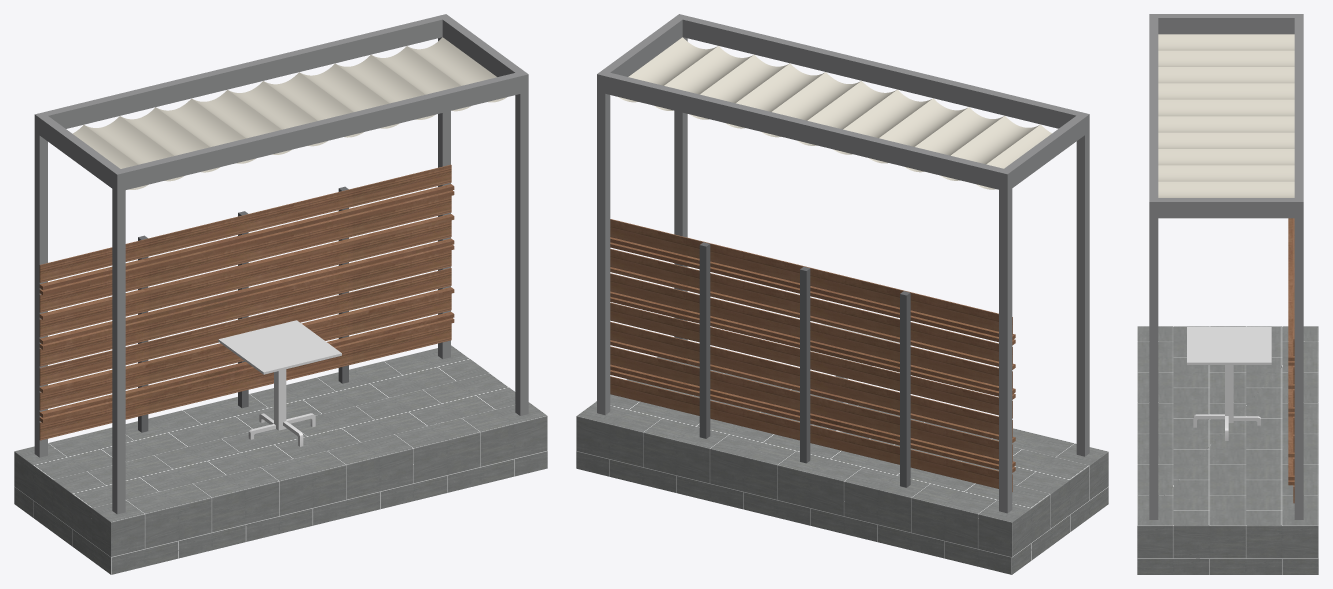
The model's file is fp25-g_w39-d15_matlightgrey.fbx.
The picture shows the model from 3 angles, left to right: view 1: azimuth 30°, elevation 25°; view 2: azimuth 150°, elevation 25°; view 3: azimuth 270°, elevation 25°; orthographic projection. The views are drawn at different scales.
Parts seen in each view (by area): view 1: fp25-g_w39-d15_mat-l-gray_ファニチャーなし.001; view 2: fp25-g_w39-d15_mat-l-gray_ファニチャーなし.001; view 3: fp25-g_w39-d15_mat-l-gray_ファニチャーなし.001.
Part boxes in pixels (bbox=[...]): fp25-g_w39-d15_mat-l-gray_ファニチャーなし.001: bbox=[14, 14, 547, 574]; fp25-g_w39-d15_mat-l-gray_ファニチャーなし.001: bbox=[576, 14, 1108, 574]; fp25-g_w39-d15_mat-l-gray_ファニチャーなし.001: bbox=[1137, 14, 1318, 574].
Bounding box in the file's own units: 390 × 335 × 150.
7 materials, 4 textured.
